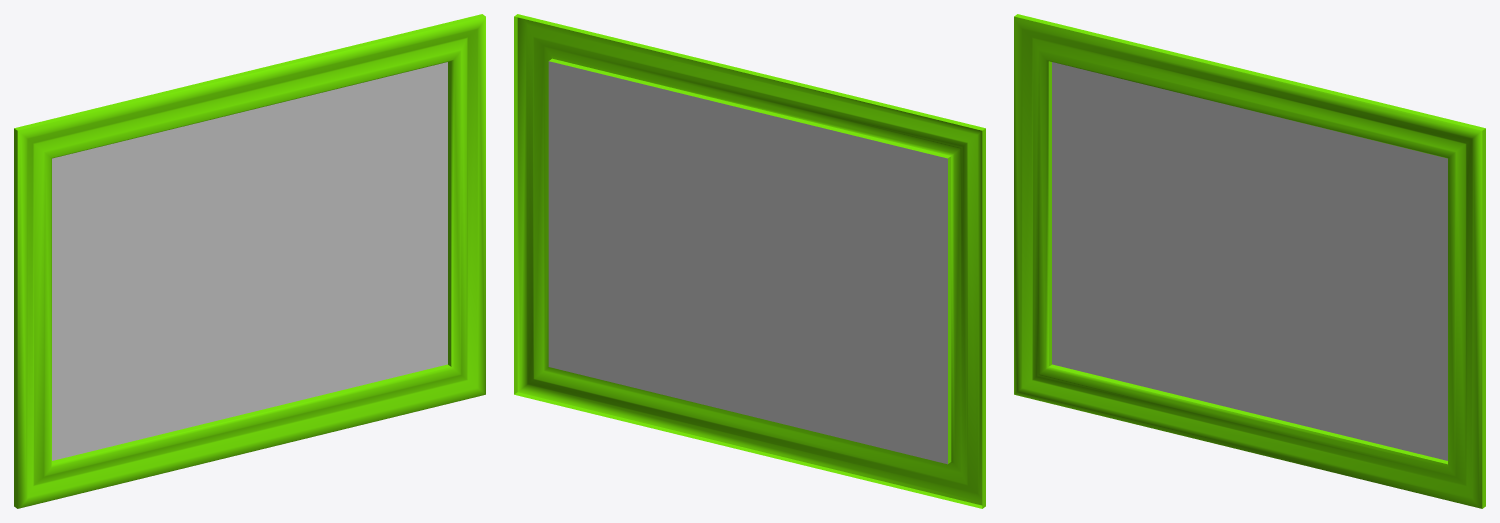
File: painting_2_mesh.fbx
3 renders of one model, left to right at view 1: azimuth 30°, elevation 25°; view 2: azimuth 150°, elevation 25°; view 3: azimuth 330°, elevation 25°, orthographic.
Visible parts, largest first — view 1: painting; view 2: painting; view 3: painting.
Part boxes in pixels (<box>): painting: <box>14,14,485,508</box>; painting: <box>514,14,985,508</box>; painting: <box>1014,14,1485,508</box>.
Bounding box in the file's own units: 1.17 × 0.905 × 0.02.
